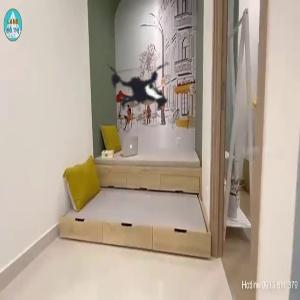drone: (70, 27, 206, 163)
